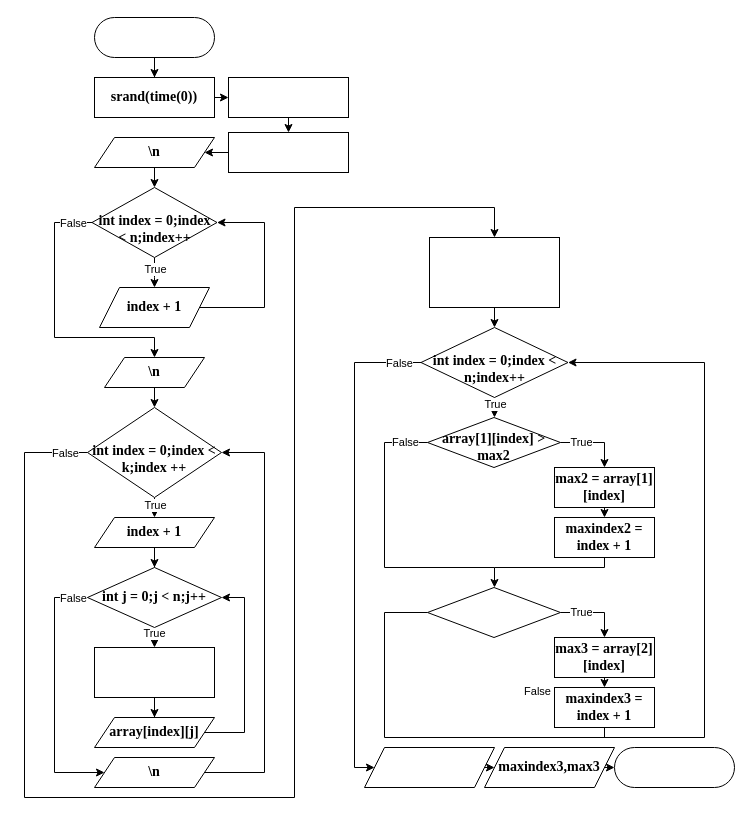
The diagram is 752 pixels wide and 823 high, and some of its shapes have lost their labels. The shapes that lost their labels are listed below. From the top down, each one's centre as x and y in pixels, then its label:
At [154,37]: "Beginning".
At [288,97]: "k = 6, n = 5".
At [288,152]: "array[k][n]".
At [494,272]: "int max2 = array[1][0],max3 = array[2][0],maxindex2 = 1;maxindex3 = 1".
At [493,612]: "array[2][index]> max3".
At [154,672]: "array[index][j] = rand() % 10 * 10".
At [429,767]: "maxindex2,max2".
At [674,767]: "End".
